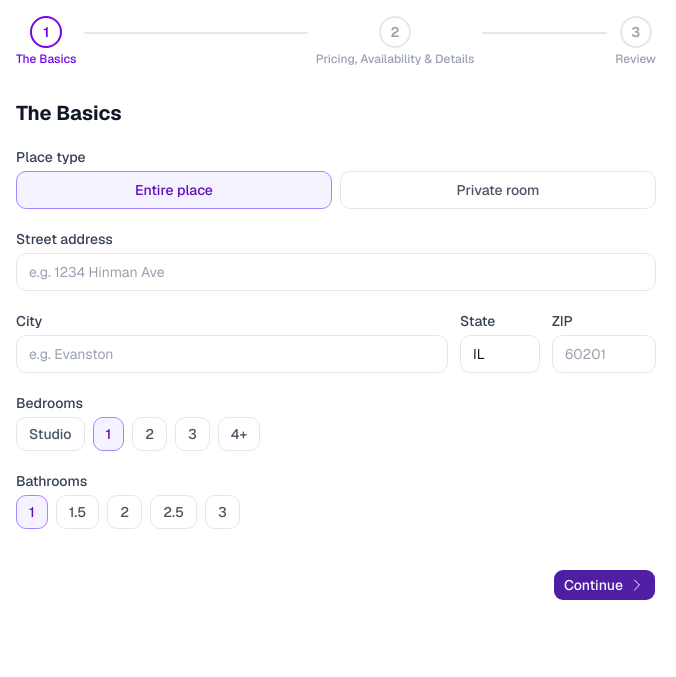
ListingForm › clicking Continue on empty step 1 shows validation errors for street address, city, and ZIP
The width and height of the screenshot is (676, 677).
Click the button "Continue" at (604, 585), box [553,569,656,601]
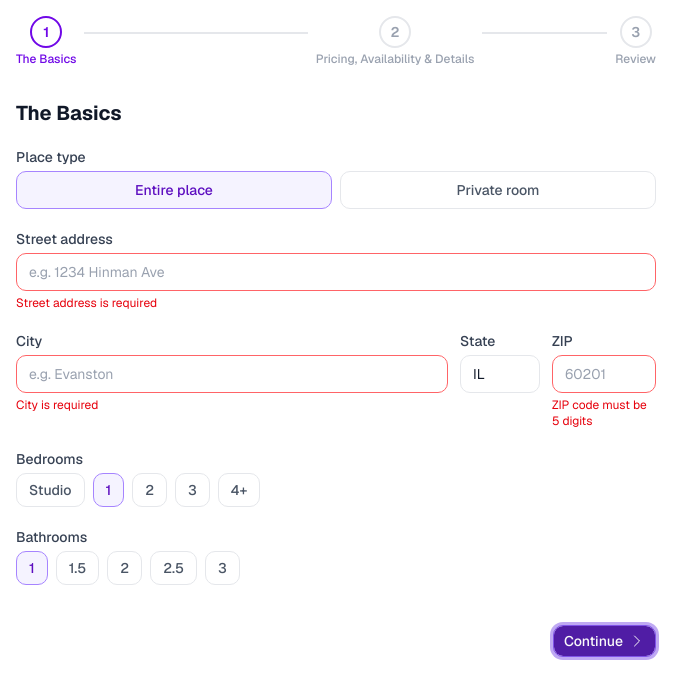
Now the text "Street address is required" is shown, box [16,295,157,311]
Now the text "City is required" is shown, box [16,397,98,413]
Now the text "ZIP code must be 5 digits" is shown, box [552,397,656,429]
